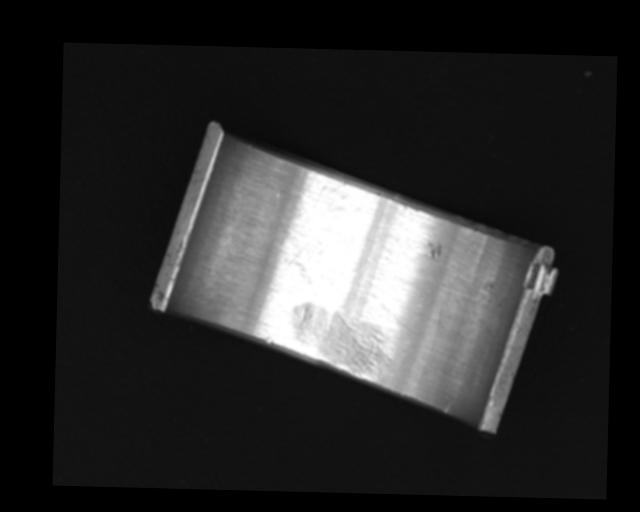blot: (277, 235, 325, 288)
bruise: (425, 240, 443, 259), (262, 335, 274, 344)
nick: (444, 401, 453, 414)
scratch: (289, 300, 396, 379)
